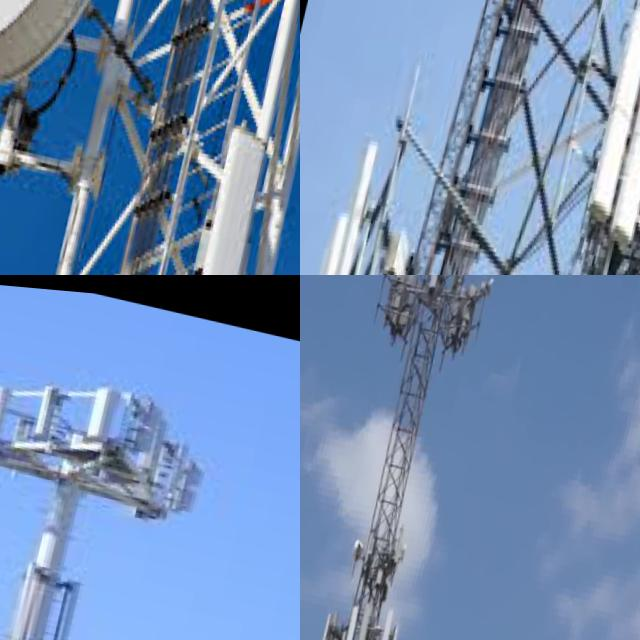GSM Antenna: (195, 109, 289, 275), (588, 2, 640, 220), (324, 130, 390, 275), (613, 16, 640, 244), (300, 198, 357, 275), (82, 374, 125, 442), (30, 372, 68, 436), (342, 595, 370, 640), (356, 595, 383, 640), (317, 602, 348, 640), (0, 370, 17, 439), (375, 603, 403, 640), (384, 608, 413, 640), (423, 275, 447, 294)
Microwave Antenna: (0, 0, 145, 124), (355, 531, 375, 565), (399, 535, 418, 566), (478, 275, 498, 297)
